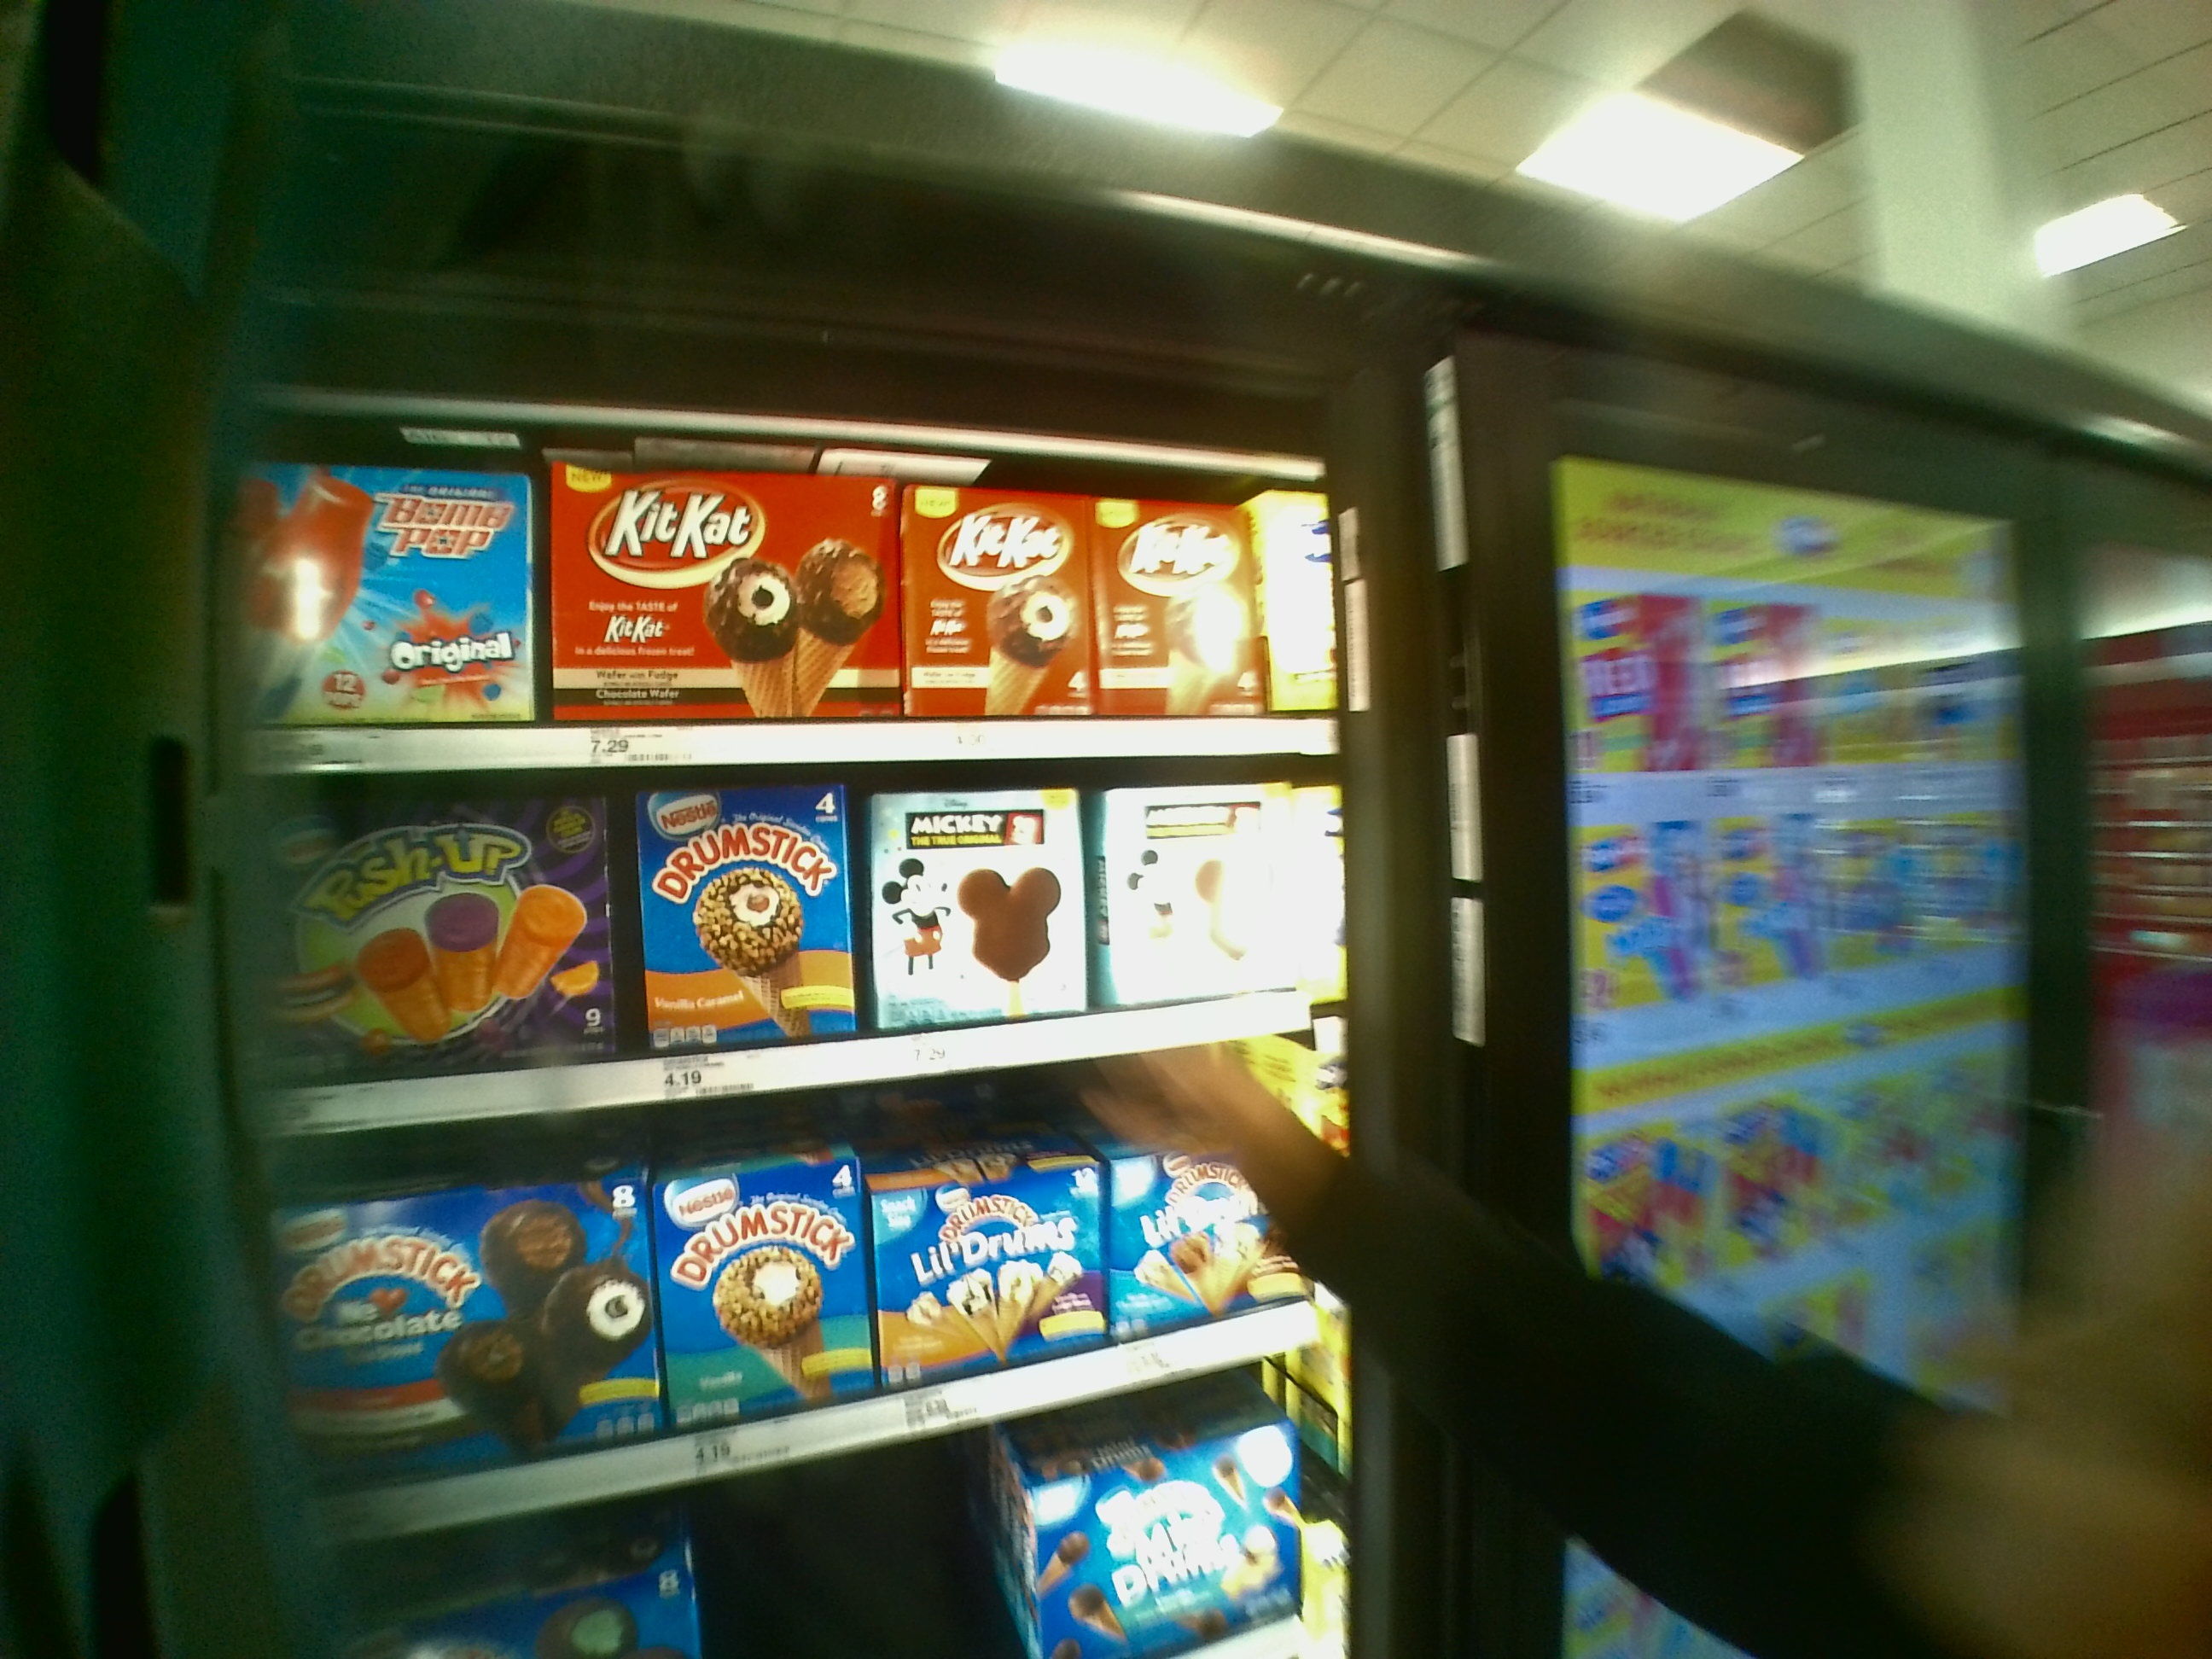shelf: (275, 1079, 1367, 1453), (225, 413, 1327, 762), (251, 770, 1355, 1061)
